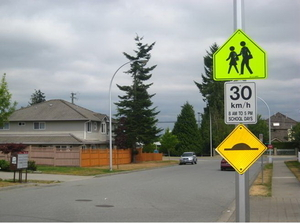slow: (211, 29, 268, 81)
